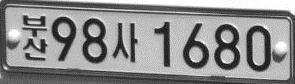0: (245, 24, 271, 72)
1: (150, 21, 178, 67)
6: (182, 22, 209, 69)
8: (213, 24, 240, 70), (81, 17, 107, 63)
9: (50, 15, 77, 60)
부산_V: (21, 13, 48, 61)
사: (111, 22, 137, 62)
